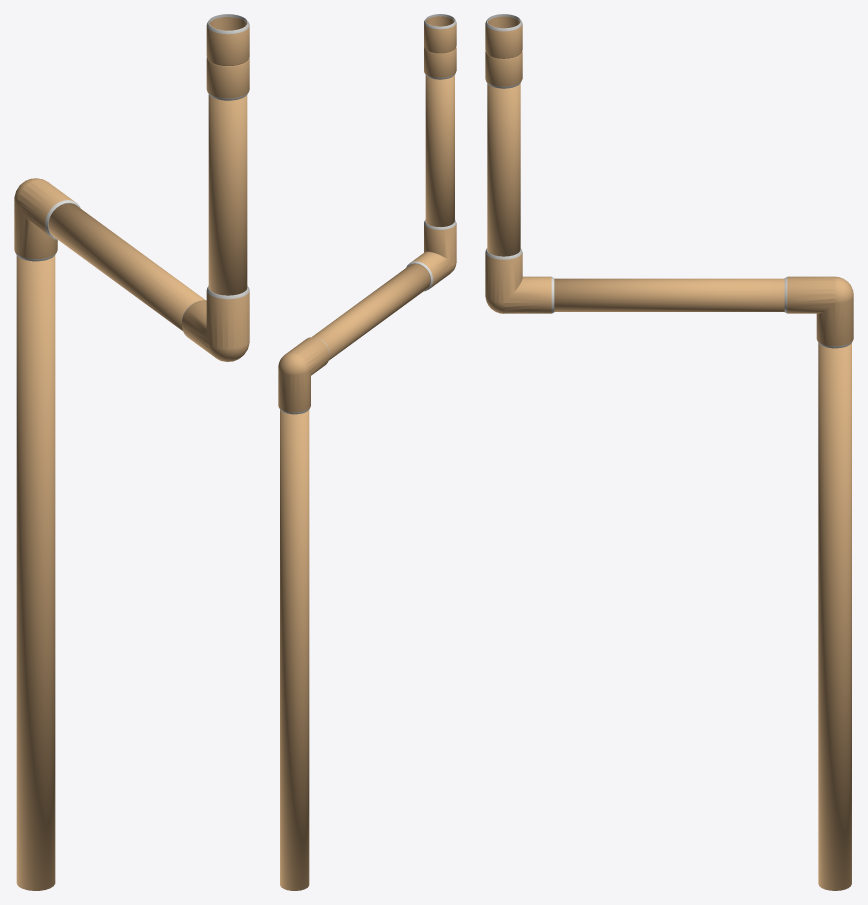
The model's file is slab_pipes_supply__water-city_filter_and_softener-no_and_plumbing-copper.glb.
3 renders of one model, left to right at view 1: azimuth 30°, elevation 25°; view 2: azimuth 150°, elevation 25°; view 3: azimuth 270°, elevation 25°, orthographic. The views are drawn at different scales.
Parts seen in each view (by area): view 1: pipe_supply_closet_riser__copper, fit_elbow_pipe_supply_closet_riser__copper_2, fit_coupling_pipe_supply_closet_riser__copper, fit_elbow_pipe_supply_closet_riser__copper_1; view 2: pipe_supply_closet_riser__copper, fit_elbow_pipe_supply_closet_riser__copper_1, fit_coupling_pipe_supply_closet_riser__copper, fit_elbow_pipe_supply_closet_riser__copper_2; view 3: pipe_supply_closet_riser__copper, fit_elbow_pipe_supply_closet_riser__copper_1, fit_elbow_pipe_supply_closet_riser__copper_2, fit_coupling_pipe_supply_closet_riser__copper.
Part boxes in pixels (left/top/right/bottom): pipe_supply_closet_riser__copper: left=16, top=94, right=247, bottom=890; fit_elbow_pipe_supply_closet_riser__copper_2: left=181, top=285, right=249, bottom=361; fit_coupling_pipe_supply_closet_riser__copper: left=206, top=14, right=249, bottom=100; fit_elbow_pipe_supply_closet_riser__copper_1: left=14, top=178, right=80, bottom=261; pipe_supply_closet_riser__copper: left=280, top=75, right=454, bottom=890; fit_elbow_pipe_supply_closet_riser__copper_1: left=278, top=337, right=329, bottom=414; fit_coupling_pipe_supply_closet_riser__copper: left=424, top=14, right=456, bottom=79; fit_elbow_pipe_supply_closet_riser__copper_2: left=406, top=220, right=456, bottom=291; pipe_supply_closet_riser__copper: left=487, top=83, right=851, bottom=890; fit_elbow_pipe_supply_closet_riser__copper_1: left=784, top=276, right=853, bottom=348; fit_elbow_pipe_supply_closet_riser__copper_2: left=485, top=248, right=554, bottom=313; fit_coupling_pipe_supply_closet_riser__copper: left=485, top=14, right=522, bottom=88.
Bounding box in the file's own units: 0.0247 × 0.6321 × 0.2448.
